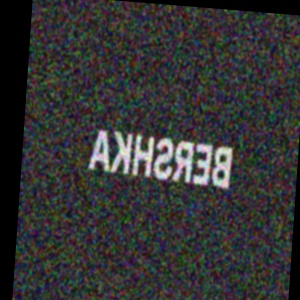bershka: (200, 68, 271, 191)
